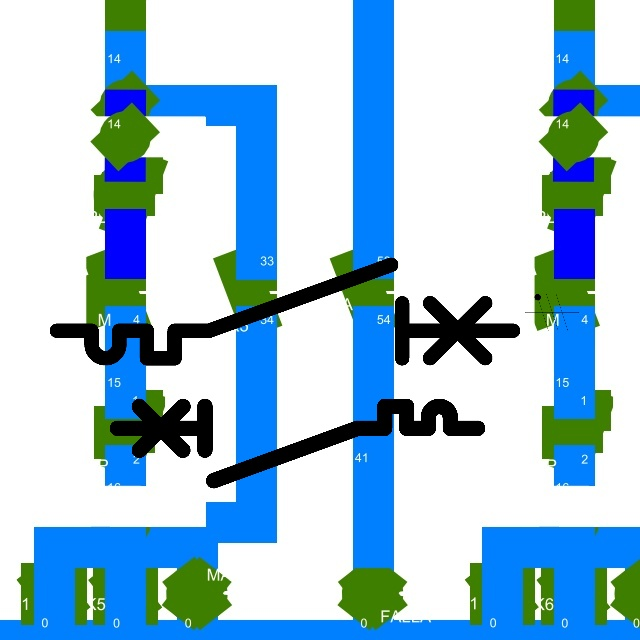interruptor_termomagnetico: (45, 253, 525, 370), (108, 397, 487, 490)
